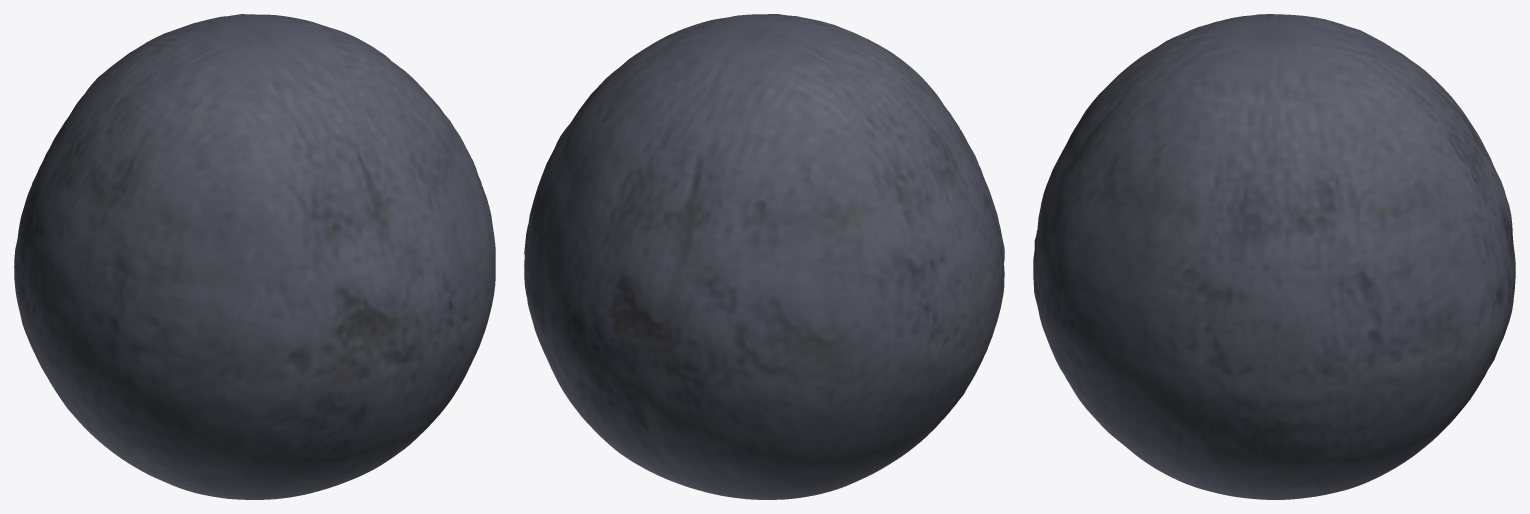
The model's file is 38e1163f157c_steel_ball__3d_asse.fbx.
3 renders of one model, left to right at view 1: azimuth 30°, elevation 25°; view 2: azimuth 150°, elevation 25°; view 3: azimuth 270°, elevation 25°, orthographic.
Visible parts, largest first — view 1: mesh; view 2: mesh; view 3: mesh.
Boxes of the visible parts, box(x1,y1,x2,y2) form: mesh: box(14, 14, 495, 499); mesh: box(524, 14, 1004, 499); mesh: box(1033, 14, 1515, 499).
Size of the model in its own units: 99.23 by 99.96 by 99.38.
